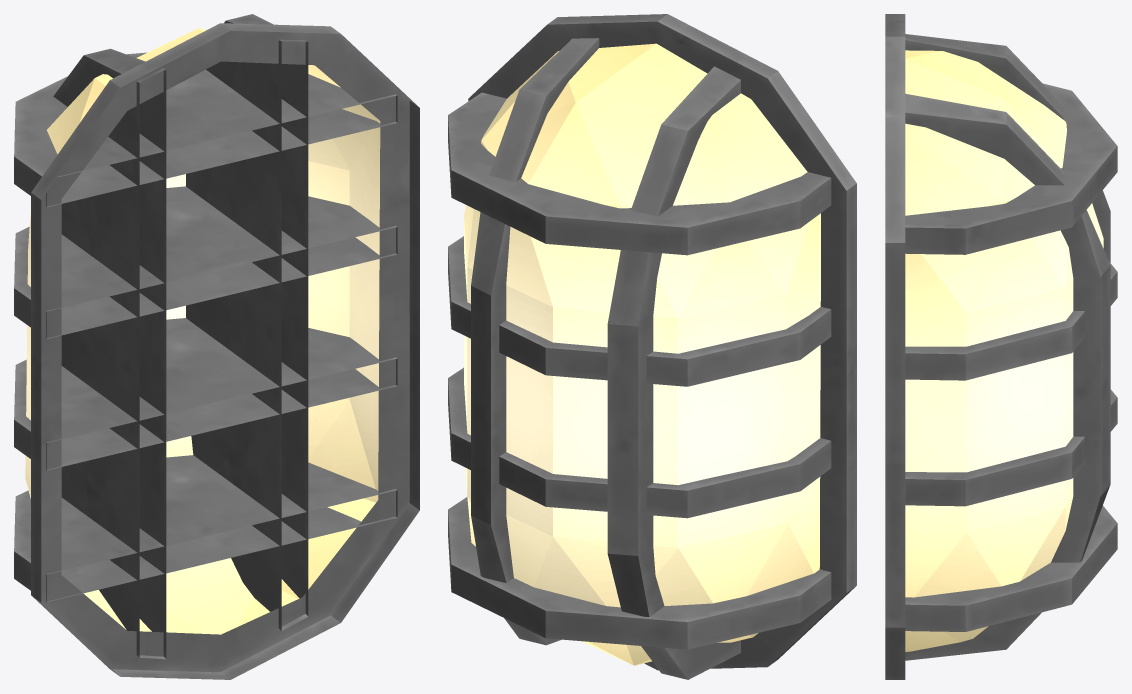
File: industrial_bulkhead_wall_lamp_lowpoly.glb
3 views of the same model, side by side, from view 1: azimuth 30°, elevation 25°; view 2: azimuth 150°, elevation 25°; view 3: azimuth 270°, elevation 25° (orthographic). The views are drawn at different scales.
Parts seen in each view (by area): view 1: WallLightMetalCage, WallLightGlassCover; view 2: WallLightMetalCage, WallLightGlassCover; view 3: WallLightMetalCage, WallLightGlassCover.
Part boxes in pixels (<box>): WallLightMetalCage: <box>14,14,419,679</box>; WallLightGlassCover: <box>25,28,380,634</box>; WallLightMetalCage: <box>448,14,856,679</box>; WallLightGlassCover: <box>464,43,820,665</box>; WallLightMetalCage: <box>885,14,1117,679</box>; WallLightGlassCover: <box>905,50,1103,651</box>.
Size of the model in its own units: 211 by 345 by 117.
Materials: 2 (1 with a texture image).
